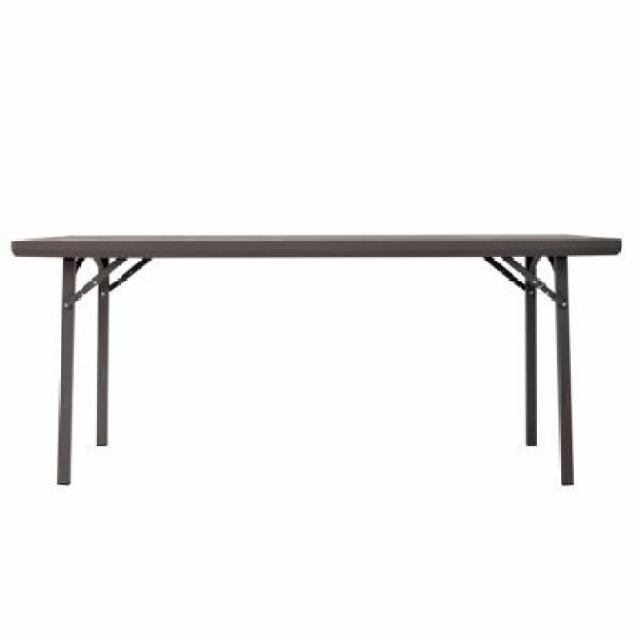mobile-phone: (9, 230, 627, 482)
